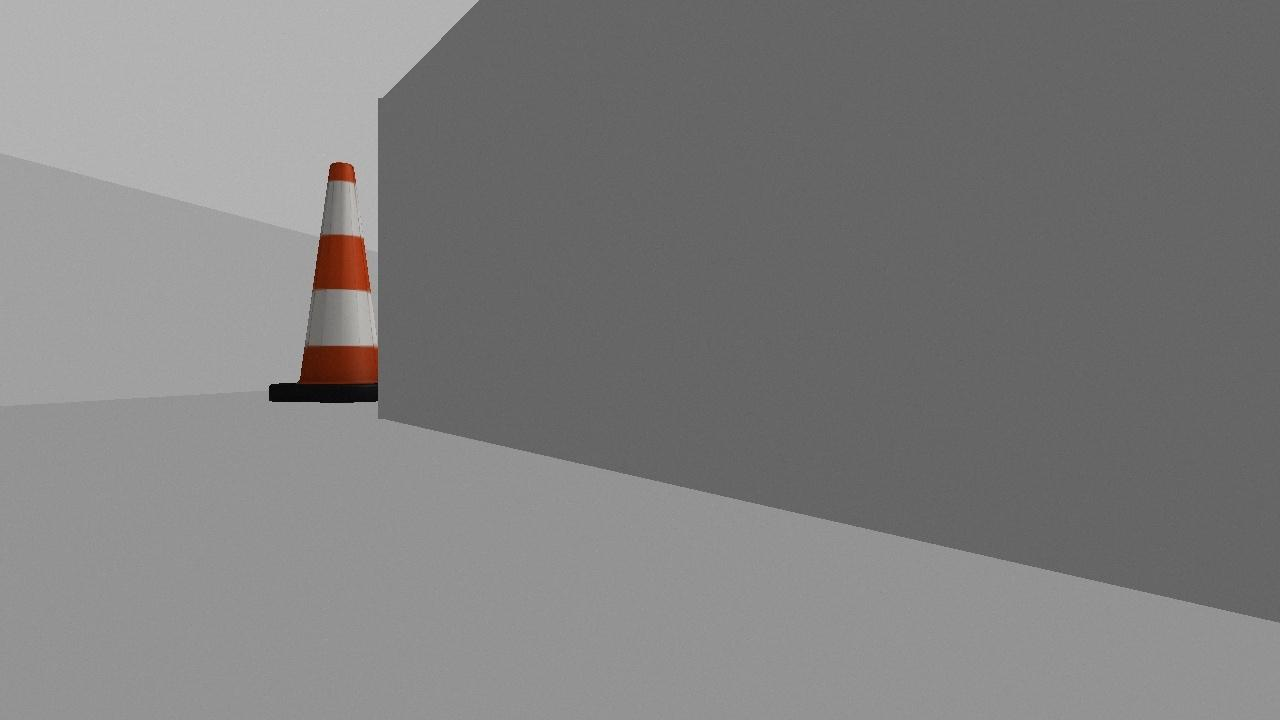cone_barrel: (267, 149, 409, 401)
